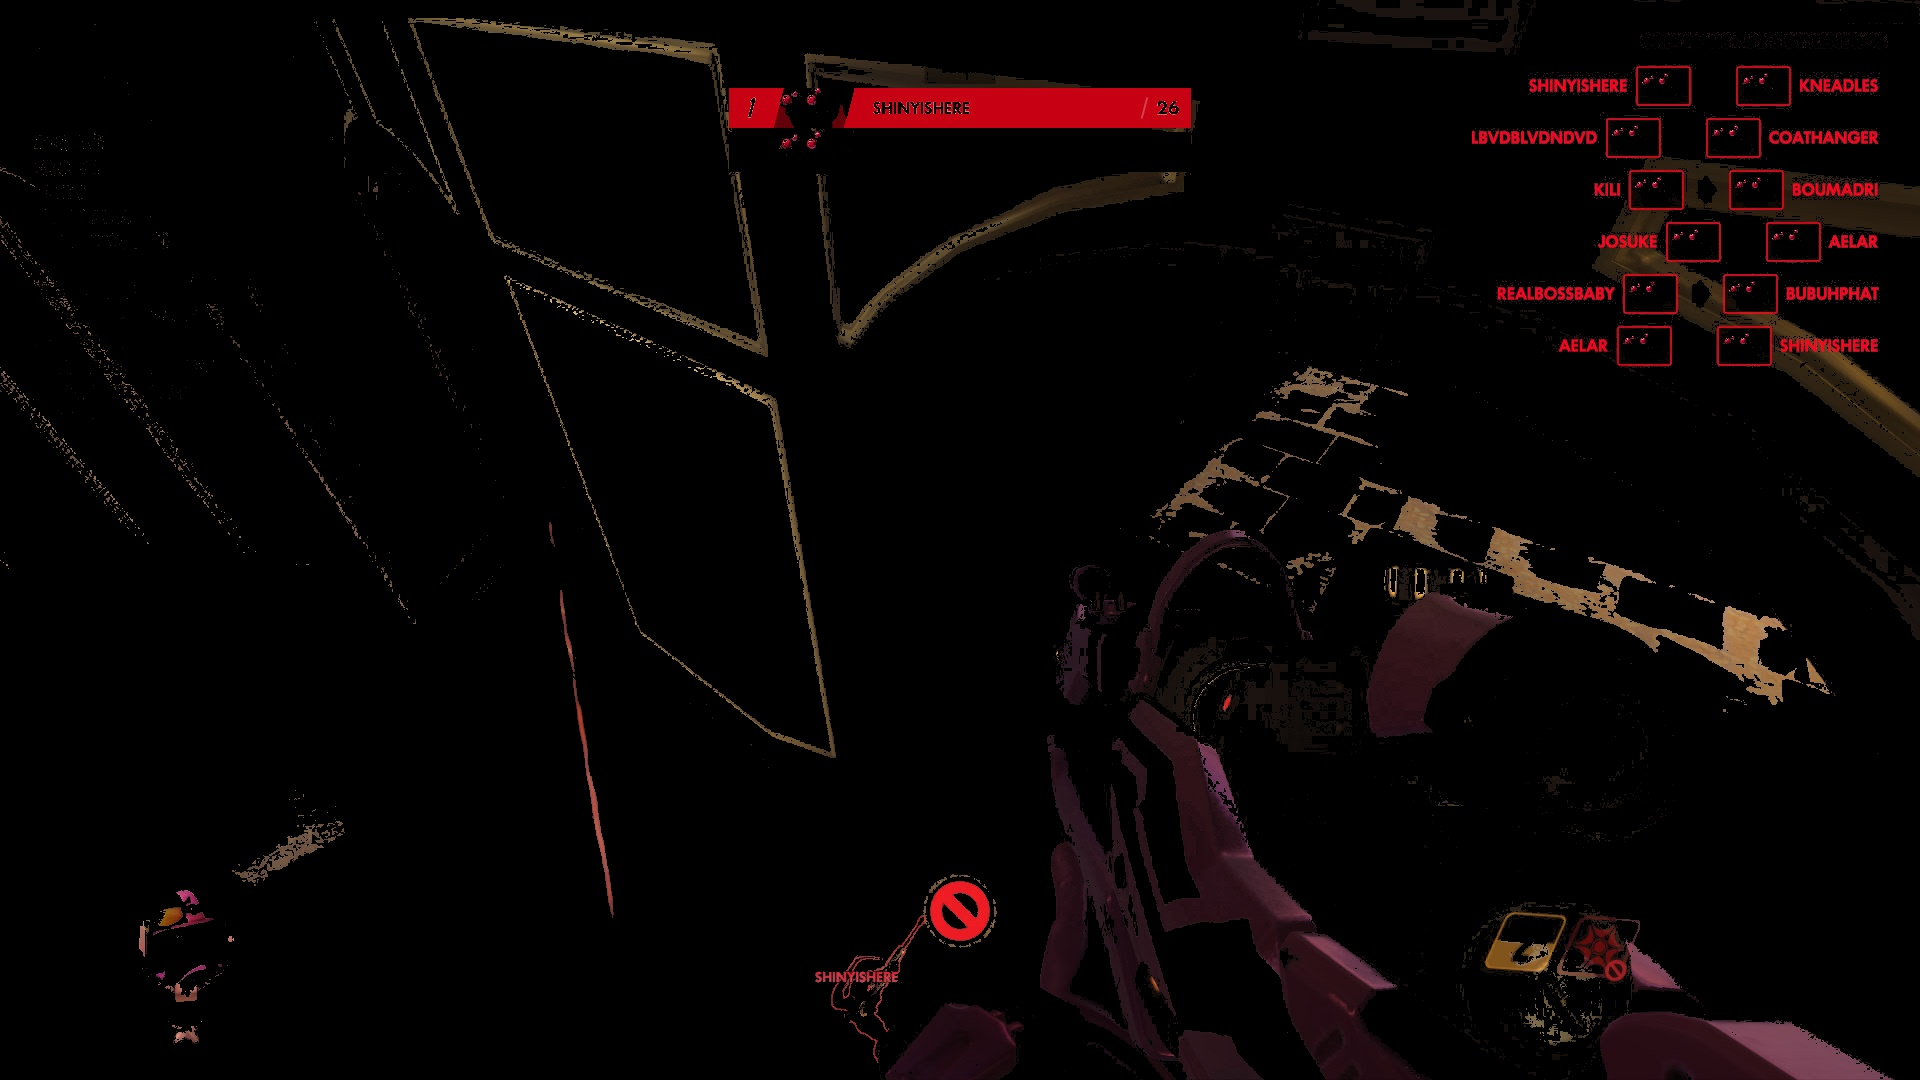widowmaker: (832, 963, 898, 1064)
